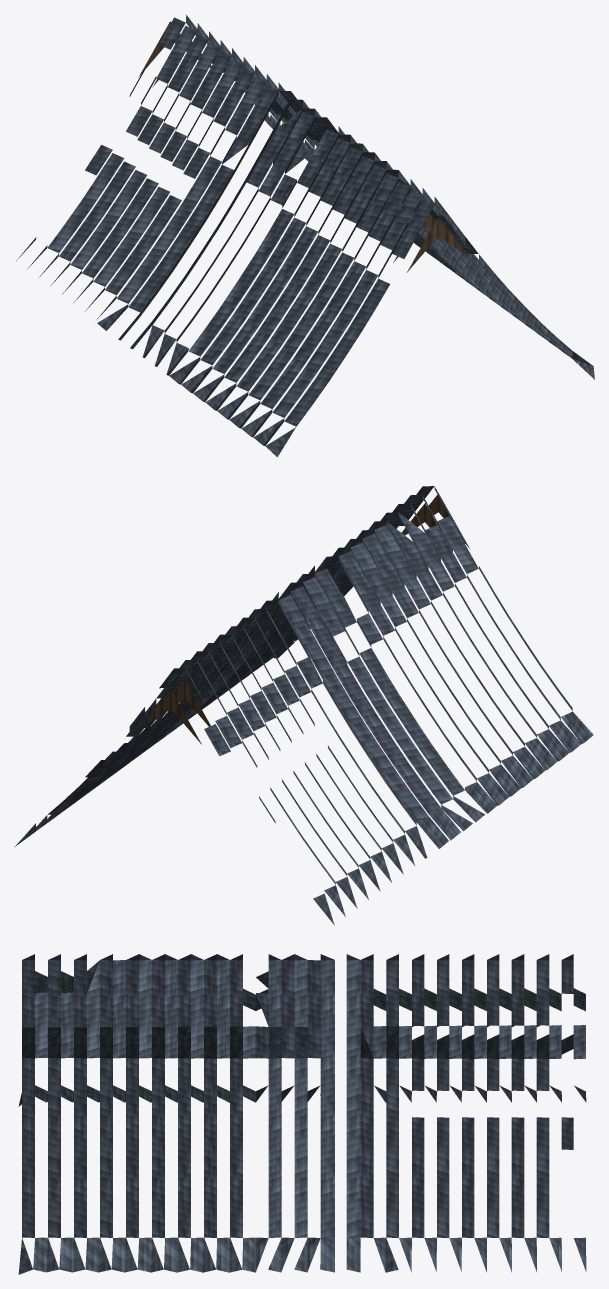
The model's file is Roof_Slate_6x10_LOD1.gltf.
3 views of the same model, one above another, from view 1: azimuth 30°, elevation 25°; view 2: azimuth 150°, elevation 25°; view 3: azimuth 270°, elevation 25° (orthographic). The views are drawn at different scales.
Visible parts, largest first — view 1: Roof_Slate_6x10_LOD1; view 2: Roof_Slate_6x10_LOD1; view 3: Roof_Slate_6x10_LOD1.
Part boxes in pixels (box(x1,y1,x2,y2)): Roof_Slate_6x10_LOD1: box(16, 15, 594, 457); Roof_Slate_6x10_LOD1: box(14, 486, 593, 925); Roof_Slate_6x10_LOD1: box(18, 954, 586, 1274).
Size of the model in its own units: 8.25 by 5.17 by 11.66.
Materials: 2 (2 with a texture image).
